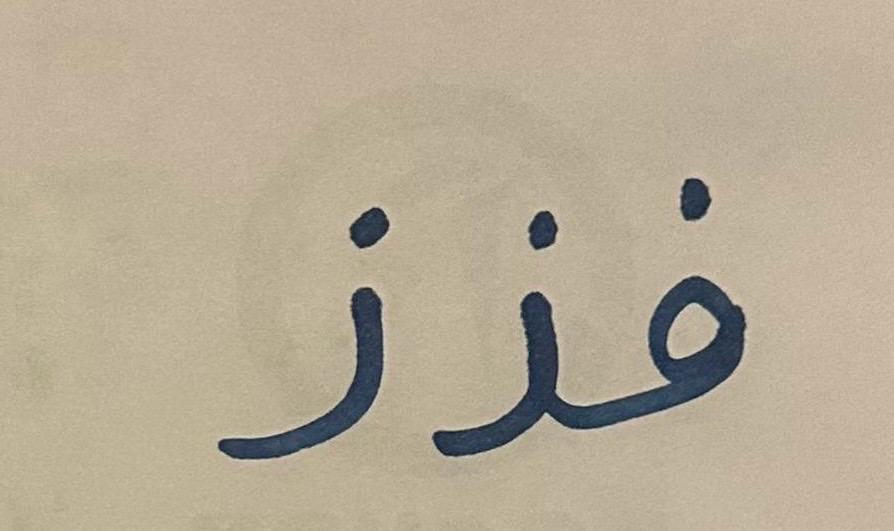ain: (138, 140, 407, 481), (409, 179, 590, 476)
feh: (592, 137, 788, 460)
